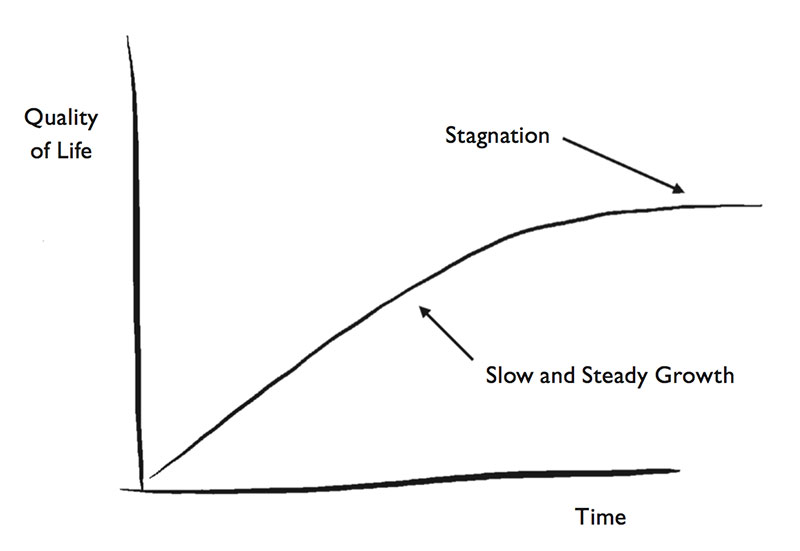line: (560, 133, 687, 198), (416, 304, 475, 364)
